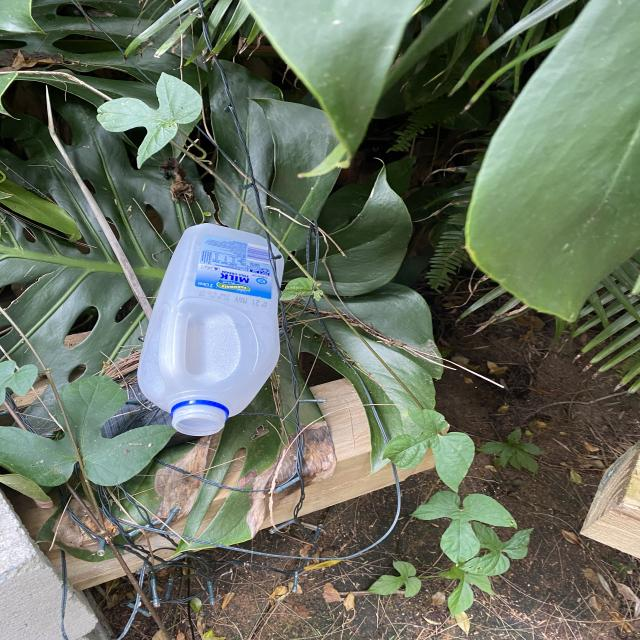bottle: (137, 224, 284, 436)
